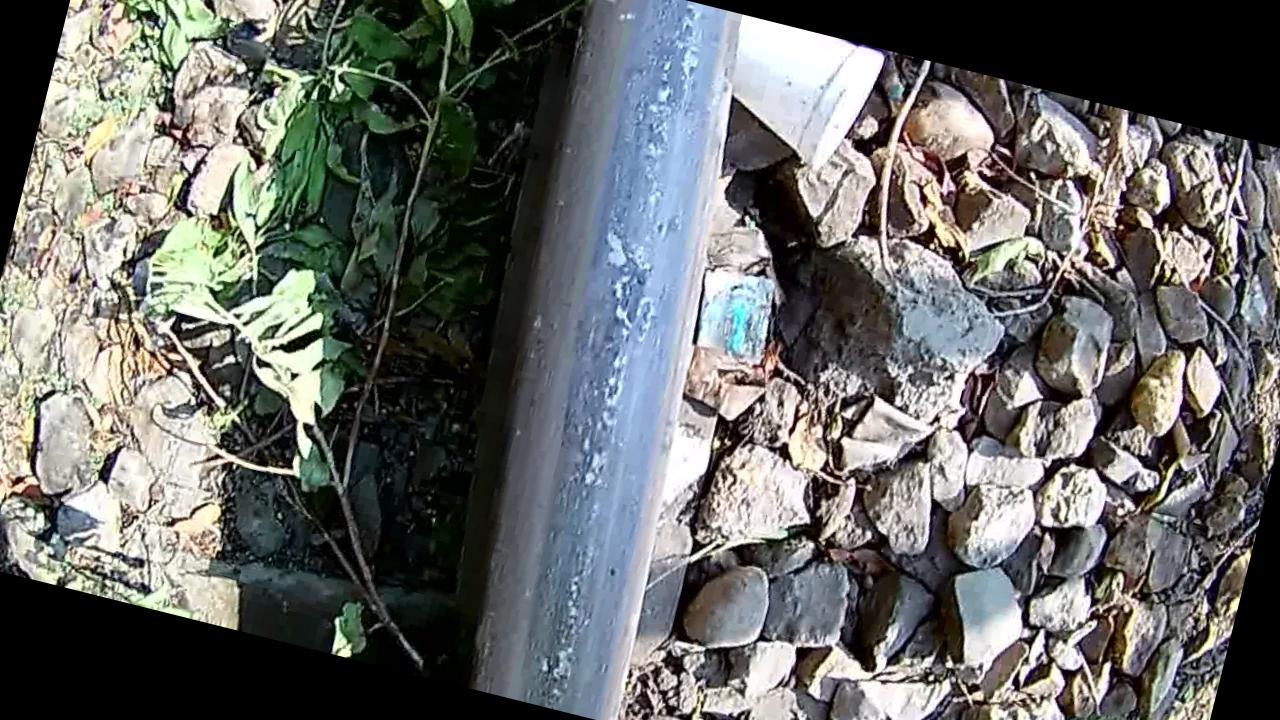crack: (421, 0, 785, 720)
